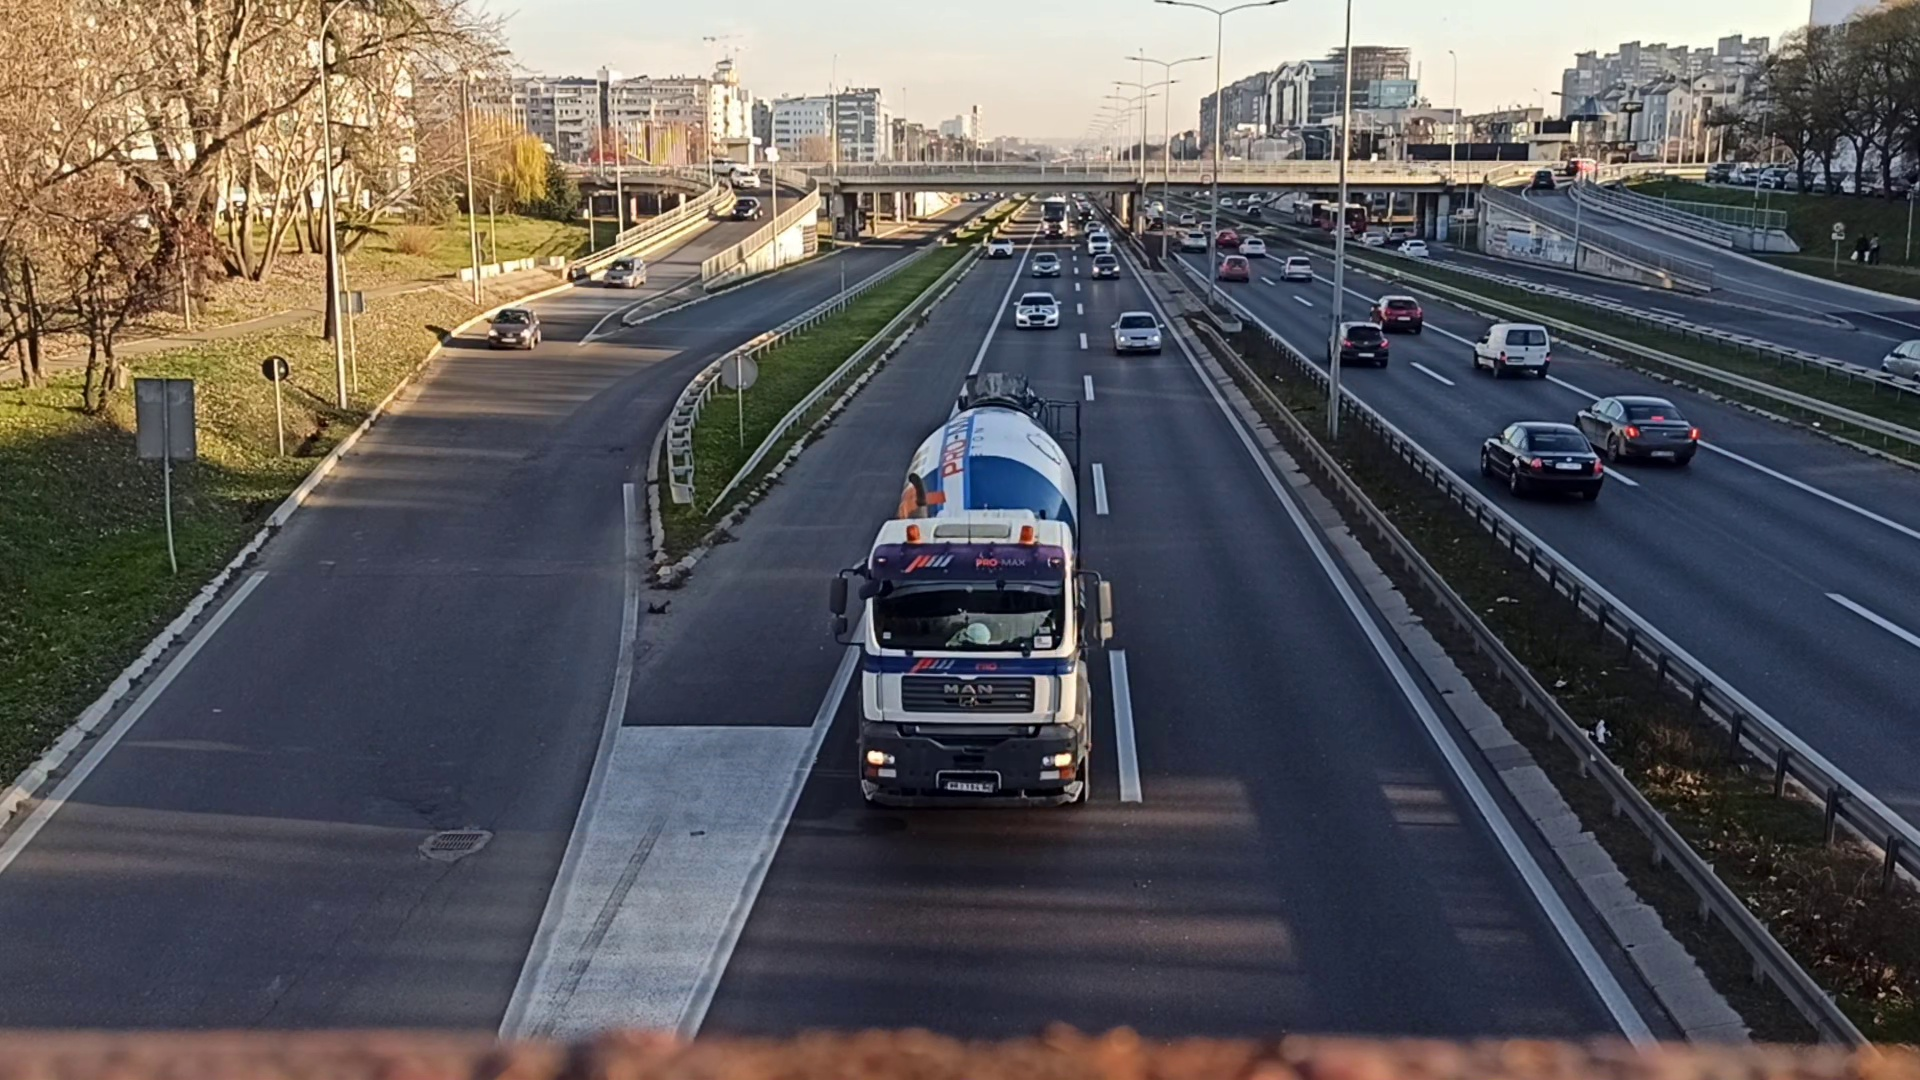car: (1480, 419, 1600, 489), (1581, 389, 1695, 463), (1328, 320, 1387, 367), (483, 306, 542, 349), (1007, 289, 1065, 331), (1110, 309, 1163, 352), (1371, 298, 1422, 332), (1091, 258, 1120, 278), (1036, 255, 1056, 276)
truck: (851, 382, 1095, 814)
van: (1465, 316, 1557, 378)
